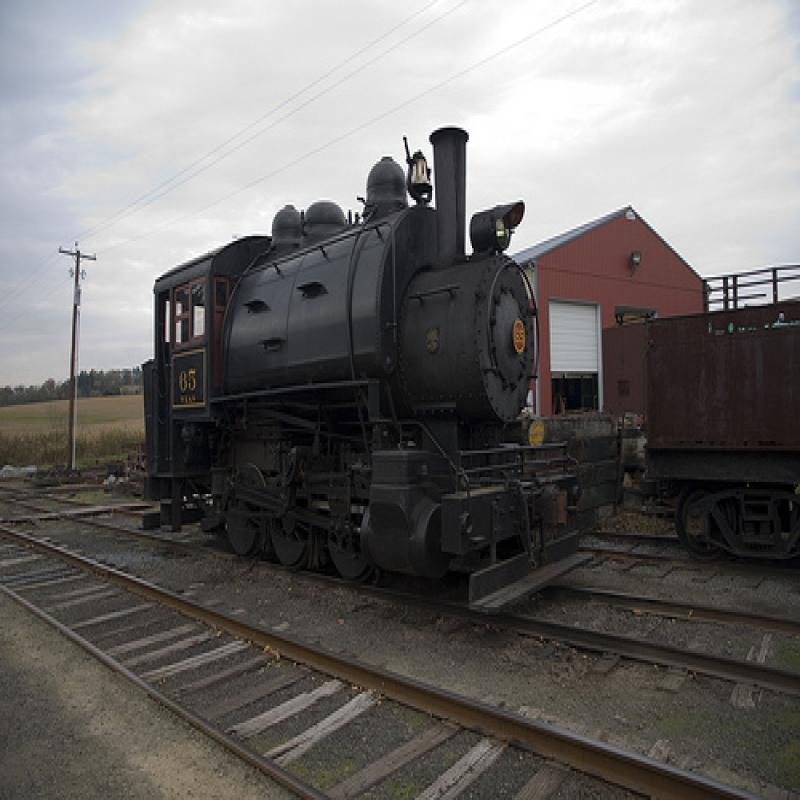train: (136, 127, 656, 633)
